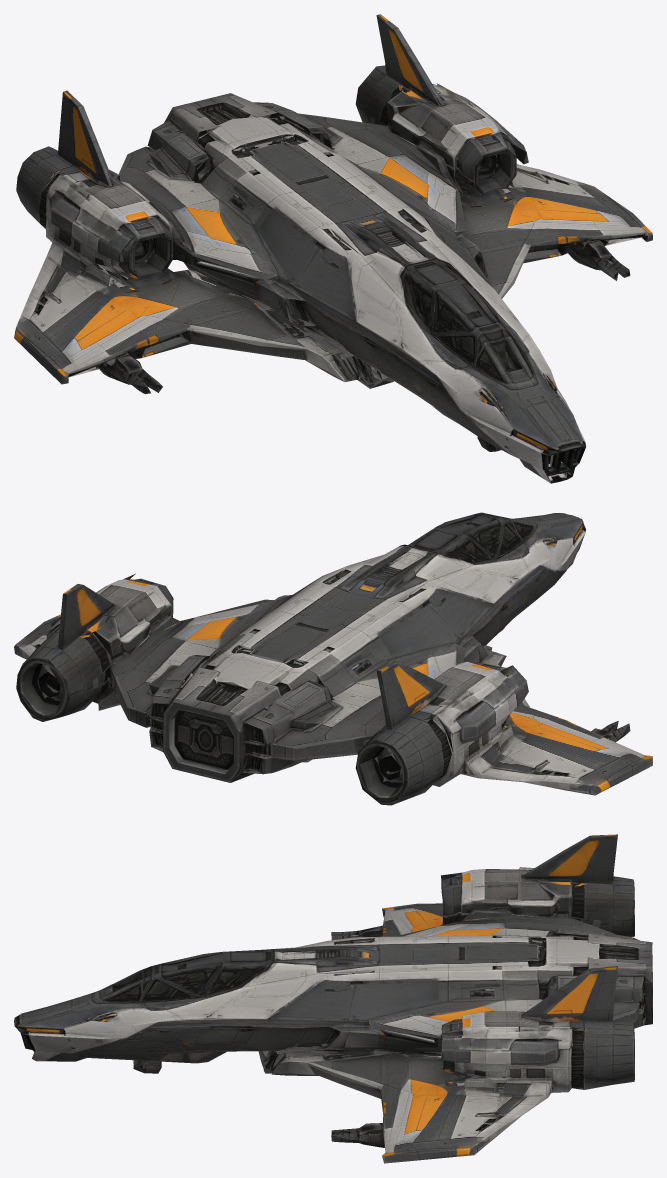
Rendered from fighter-high.glb.
The picture shows the model from 3 angles, top to bottom: view 1: azimuth 30°, elevation 25°; view 2: azimuth 150°, elevation 25°; view 3: azimuth 270°, elevation 25°; orthographic projection. The views are drawn at different scales.
Visible parts, largest first — view 1: Low; view 2: Low; view 3: Low.
Boxes of the visible parts, bbox=[...] form: Low: bbox=[14, 14, 652, 483]; Low: bbox=[14, 512, 652, 805]; Low: bbox=[14, 834, 652, 1163].
Bounding box in the file's own units: 1.65 × 0.5269 × 1.8.
1 material, 1 textured.
